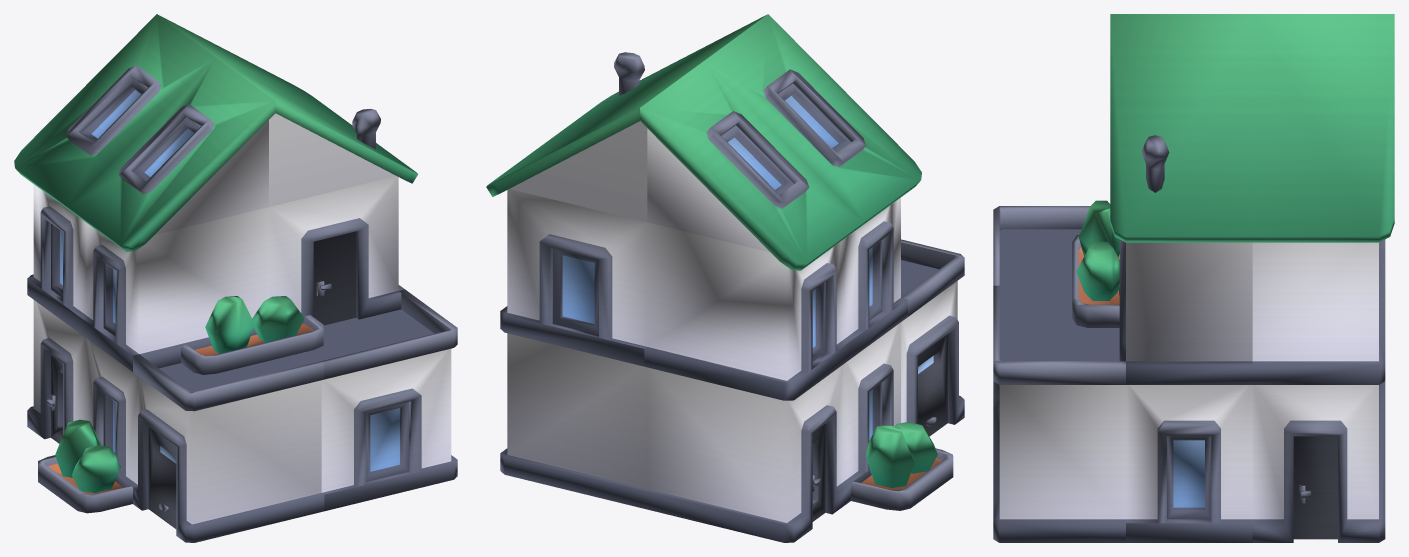
The model's file is n1_building-type-o_lev1.glb.
3 renders of one model, left to right at view 1: azimuth 30°, elevation 25°; view 2: azimuth 150°, elevation 25°; view 3: azimuth 270°, elevation 25°, orthographic. The views are drawn at different scales.
Visible parts, largest first — view 1: n1_building-type-o_lev1; view 2: n1_building-type-o_lev1; view 3: n1_building-type-o_lev1.
Boxes of the visible parts, x1,y1,x2,y2 form: n1_building-type-o_lev1: (14, 14, 457, 542); n1_building-type-o_lev1: (486, 14, 964, 542); n1_building-type-o_lev1: (993, 14, 1394, 542).
Size of the model in its own units: 7.97 by 8.56 by 6.94.
Materials: 1 (1 with a texture image).
